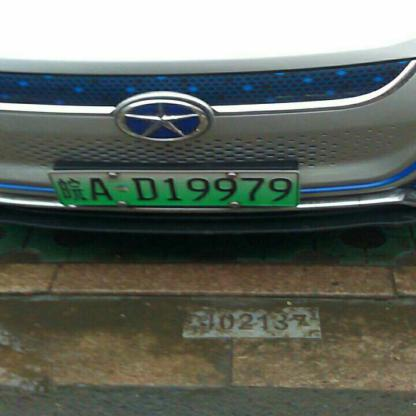lp: (46, 170, 63, 206)
